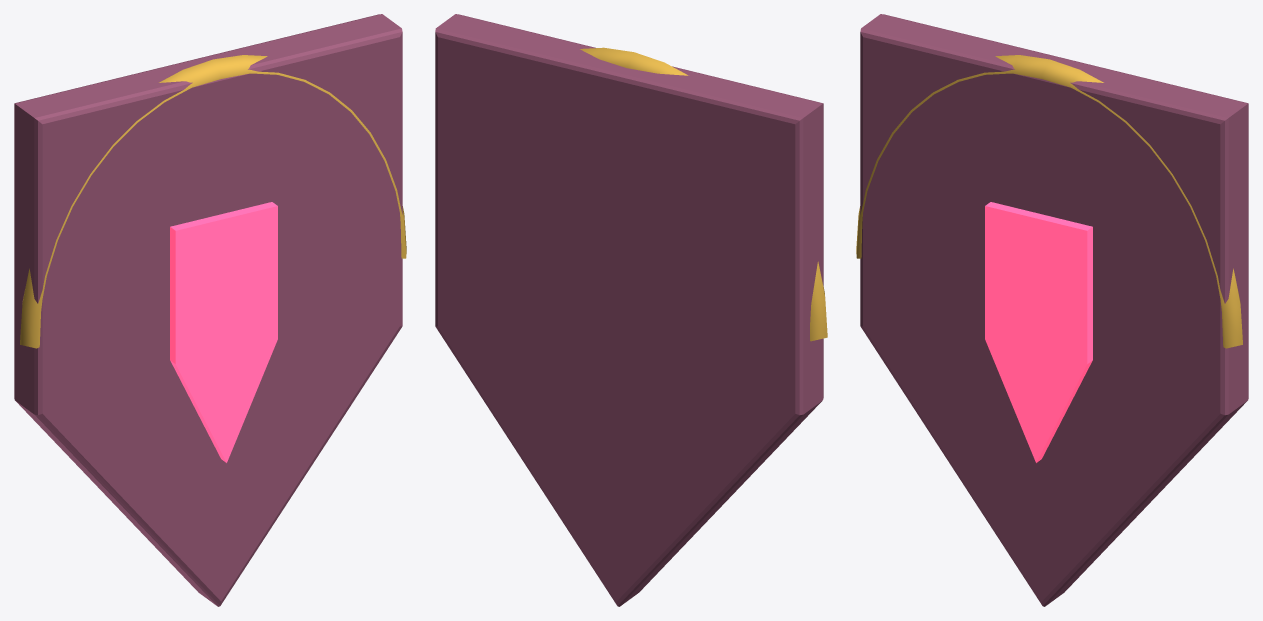
File: shield_kite_t5.glb
The picture shows the model from 3 angles, left to right: view 1: azimuth 30°, elevation 25°; view 2: azimuth 150°, elevation 25°; view 3: azimuth 330°, elevation 25°; orthographic projection.
Parts seen in each view (by area): view 1: m0_ow90_, m1_gm120_, m2_ow90_; view 2: m0_ow90_, m2_ow90_; view 3: m0_ow90_, m1_gm120_, m2_ow90_.
Part boxes in pixels (x1,y1,x2,y2): m0_ow90_: (14, 14, 402, 606); m1_gm120_: (170, 202, 277, 462); m2_ow90_: (20, 55, 406, 348); m0_ow90_: (435, 14, 823, 606); m2_ow90_: (580, 47, 827, 341); m0_ow90_: (860, 14, 1248, 606); m1_gm120_: (985, 202, 1092, 462); m2_ow90_: (856, 55, 1242, 348).
Bounding box in the file's own units: 0.9095 × 1.22 × 0.127.
